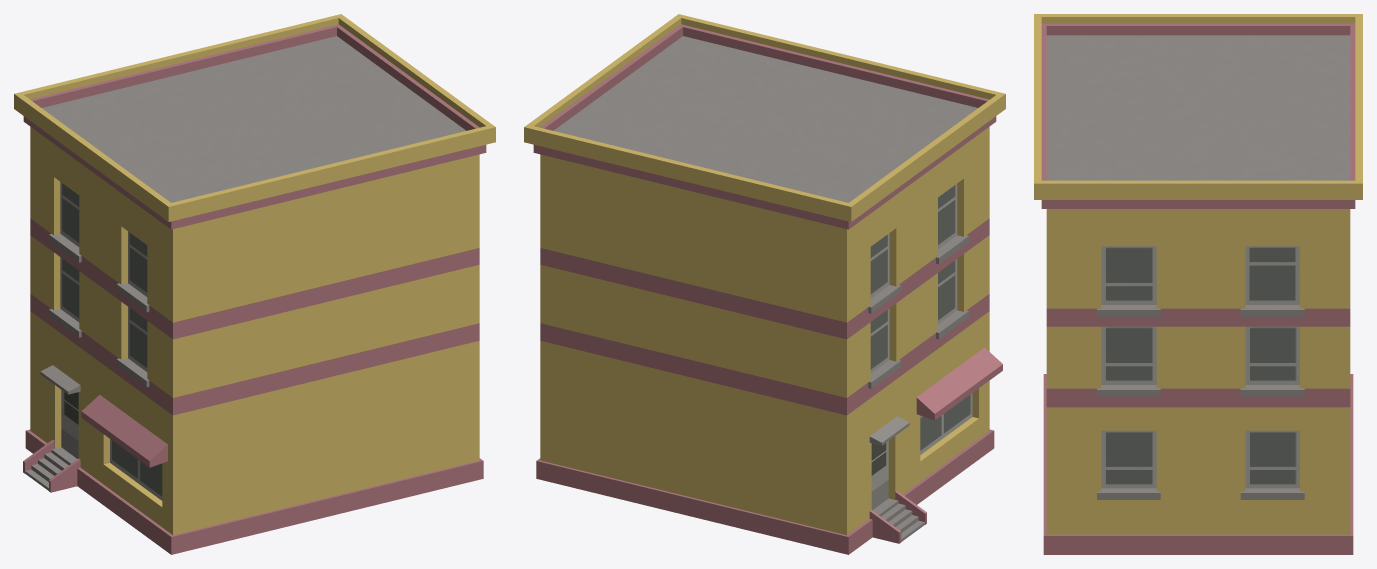
The model's file is house5.fbx.
3 renders of one model, left to right at view 1: azimuth 30°, elevation 25°; view 2: azimuth 150°, elevation 25°; view 3: azimuth 270°, elevation 25°, orthographic. The views are drawn at different scales.
Visible parts, largest first — view 1: sptp_building_07; view 2: sptp_building_07; view 3: sptp_building_07.
Boxes of the visible parts, <box> form: sptp_building_07: <box>14,14,495,554</box>; sptp_building_07: <box>524,14,1005,554</box>; sptp_building_07: <box>1034,14,1362,554</box>.
Bounding box in the file's own units: 955 × 929 × 738.
1 material, 1 textured.
